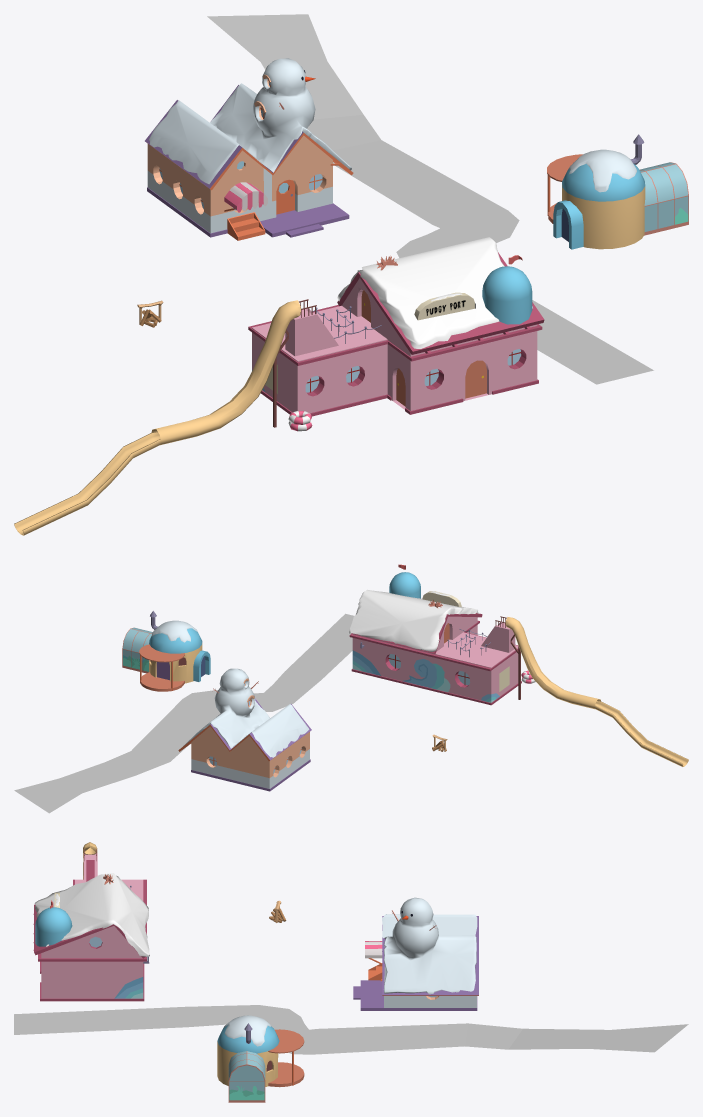
Rendered from Neighborhood_PudgyPort_03.fbx.
3 renders of one model, top to bottom at view 1: azimuth 30°, elevation 25°; view 2: azimuth 150°, elevation 25°; view 3: azimuth 270°, elevation 25°, orthographic. The views are drawn at different scales.
Visible parts, largest first — view 1: polySurface23, pasted__polySurface2, Object_PudgyPortRoad, pCylinder12, pSphere2, pasted__polySurface128; view 2: polySurface23, Object_PudgyPortRoad, pasted__polySurface2, pCylinder12, pSphere2; view 3: Object_PudgyPortRoad, polySurface23, pasted__polySurface2, pCylinder12, pSphere2.
Part boxes in pixels (x1,y1,x2,y2): polySurface23: (14,237,544,535); pasted__polySurface2: (145,58,353,240); Object_PudgyPortRoad: (207,14,653,384); pCylinder12: (547,134,688,249); pSphere2: (273,266,532,427); pasted__polySurface128: (414,292,475,320); polySurface23: (348,589,688,766); Object_PudgyPortRoad: (14,613,353,813); pasted__polySurface2: (178,668,311,791); pCylinder12: (122,611,210,691); pSphere2: (360,572,520,699); Object_PudgyPortRoad: (14,1005,688,1054); polySurface23: (33,842,149,1001); pasted__polySurface2: (353,897,478,1010); pCylinder12: (217,1015,304,1102); pSphere2: (35,849,149,963).
Size of the model in its own units: 3893 by 951 by 4023.
